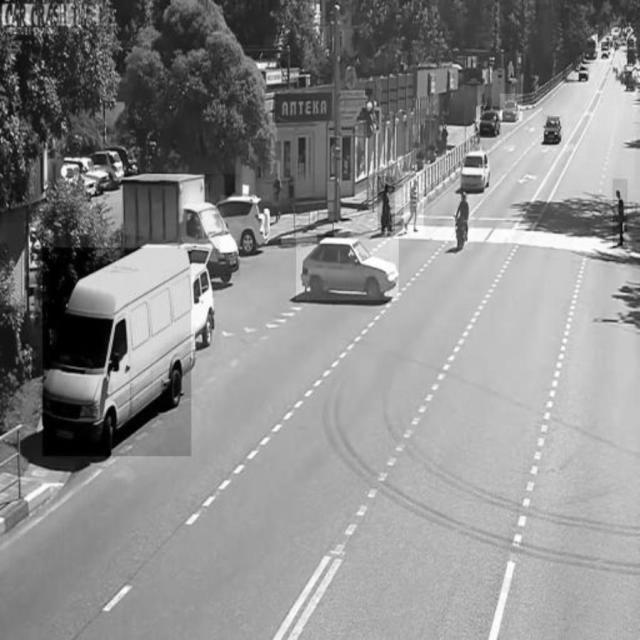person: (403, 173, 423, 235), (612, 179, 628, 255), (378, 177, 395, 232)
vehicle: (42, 248, 190, 456), (122, 174, 240, 276), (296, 238, 398, 300), (221, 195, 271, 253), (461, 148, 493, 193), (453, 192, 473, 250), (477, 107, 502, 135), (543, 114, 563, 149), (501, 94, 523, 121), (577, 62, 591, 82)
